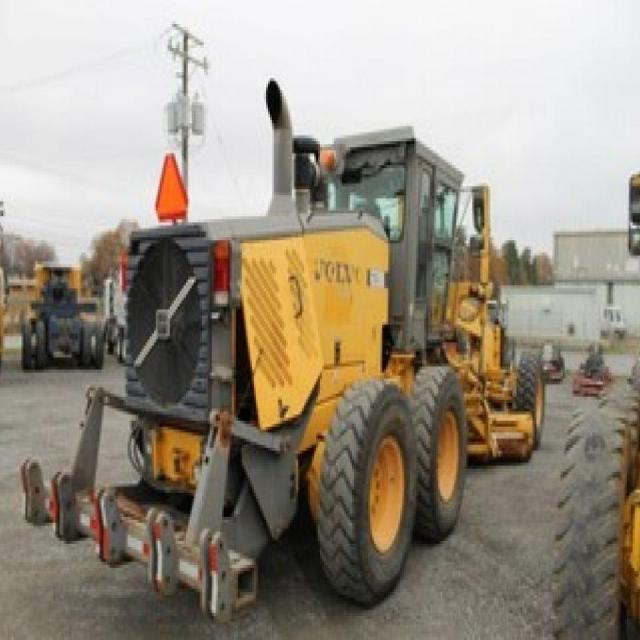Grader: (64, 81, 547, 598)
